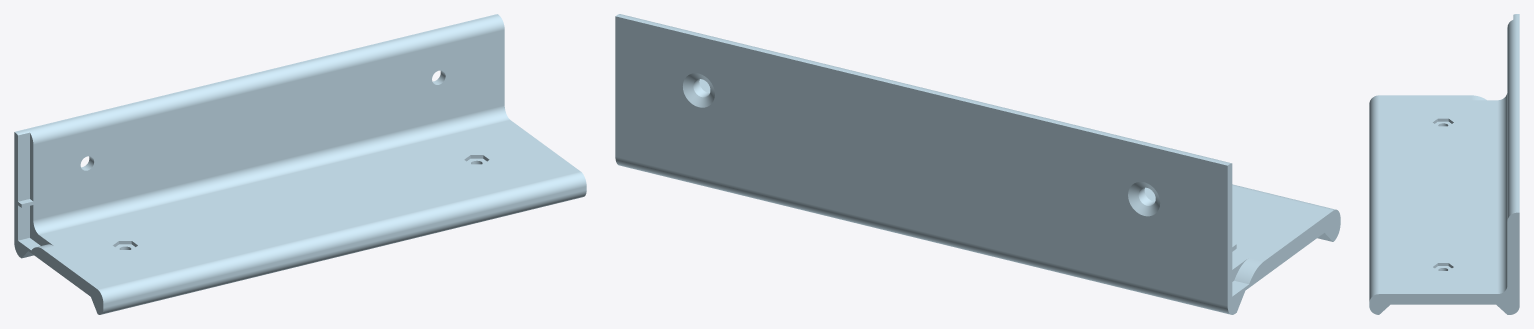
Rendered from handle.gltf.
3 views of the same model, side by side, from view 1: azimuth 30°, elevation 25°; view 2: azimuth 150°, elevation 25°; view 3: azimuth 270°, elevation 25° (orthographic). The views are drawn at different scales.
Visible parts, largest first — view 1: Part 1; view 2: Part 1; view 3: Part 1.
Boxes of the visible parts, bbox=[...] form: Part 1: bbox=[14, 14, 586, 314]; Part 1: bbox=[615, 14, 1340, 314]; Part 1: bbox=[1369, 14, 1519, 314].
Bounding box in the file's own units: 0.143 × 0.0343 × 0.0457.
